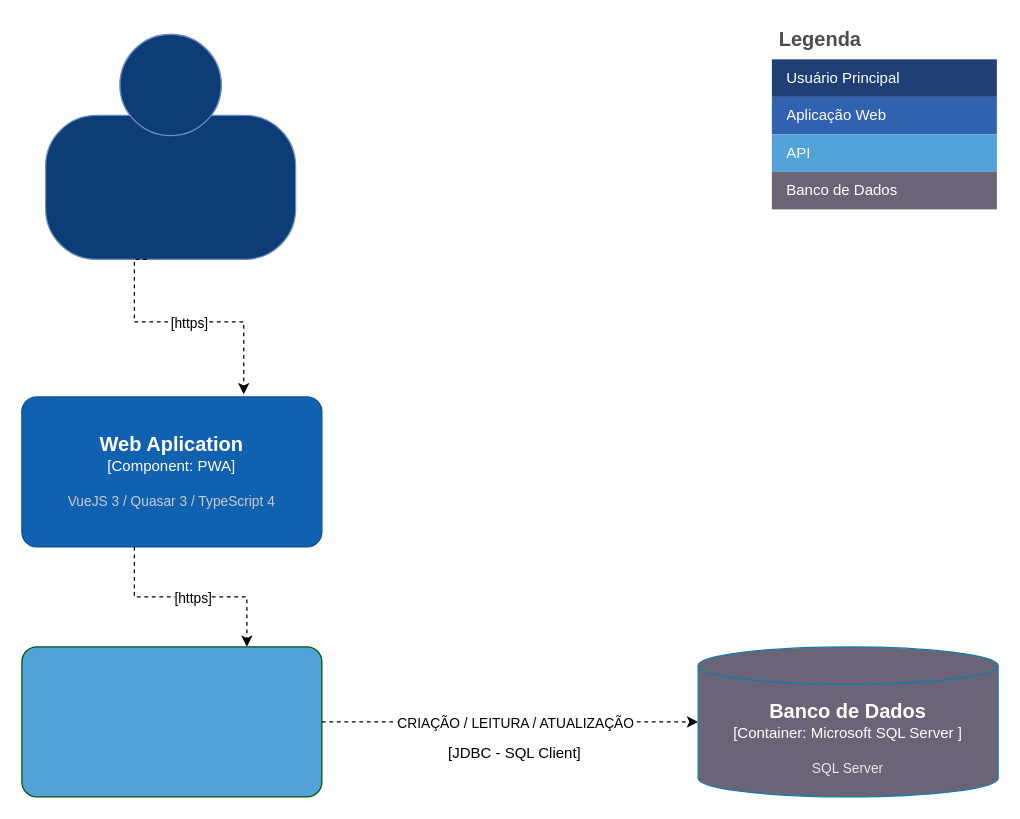
Image size: 1020x819. Some labels were removed from this diagram. Each missing label, with the box of its shape:
API Application [Component: C-Sharp com Entity Framework 6] RESTfull - JSON: (21, 646, 322, 797)
Usuário [Usuário Principal] Usuário que mantem e acessa a aplicação: (44, 33, 296, 259)
